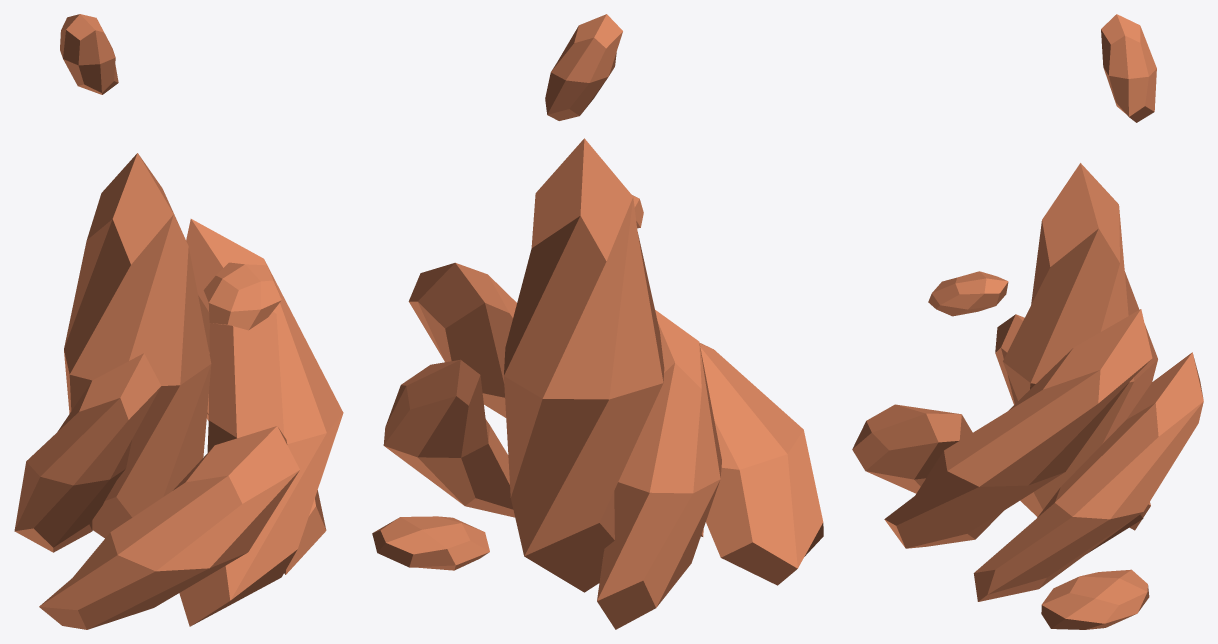
The model's file is rock06.glb.
The picture shows the model from 3 angles, left to right: view 1: azimuth 30°, elevation 25°; view 2: azimuth 150°, elevation 25°; view 3: azimuth 270°, elevation 25°; orthographic projection. The views are drawn at different scales.
Visible parts, largest first — view 1: rock_06; view 2: rock_06; view 3: rock_06.
Boxes of the visible parts, x1,y1,x2,y2 form: rock_06: (14,14,343,629); rock_06: (372,14,823,629); rock_06: (852,14,1203,629).
Size of the model in its own units: 2.59 by 4.17 by 2.52.
Materials: 1 (1 with a texture image).
